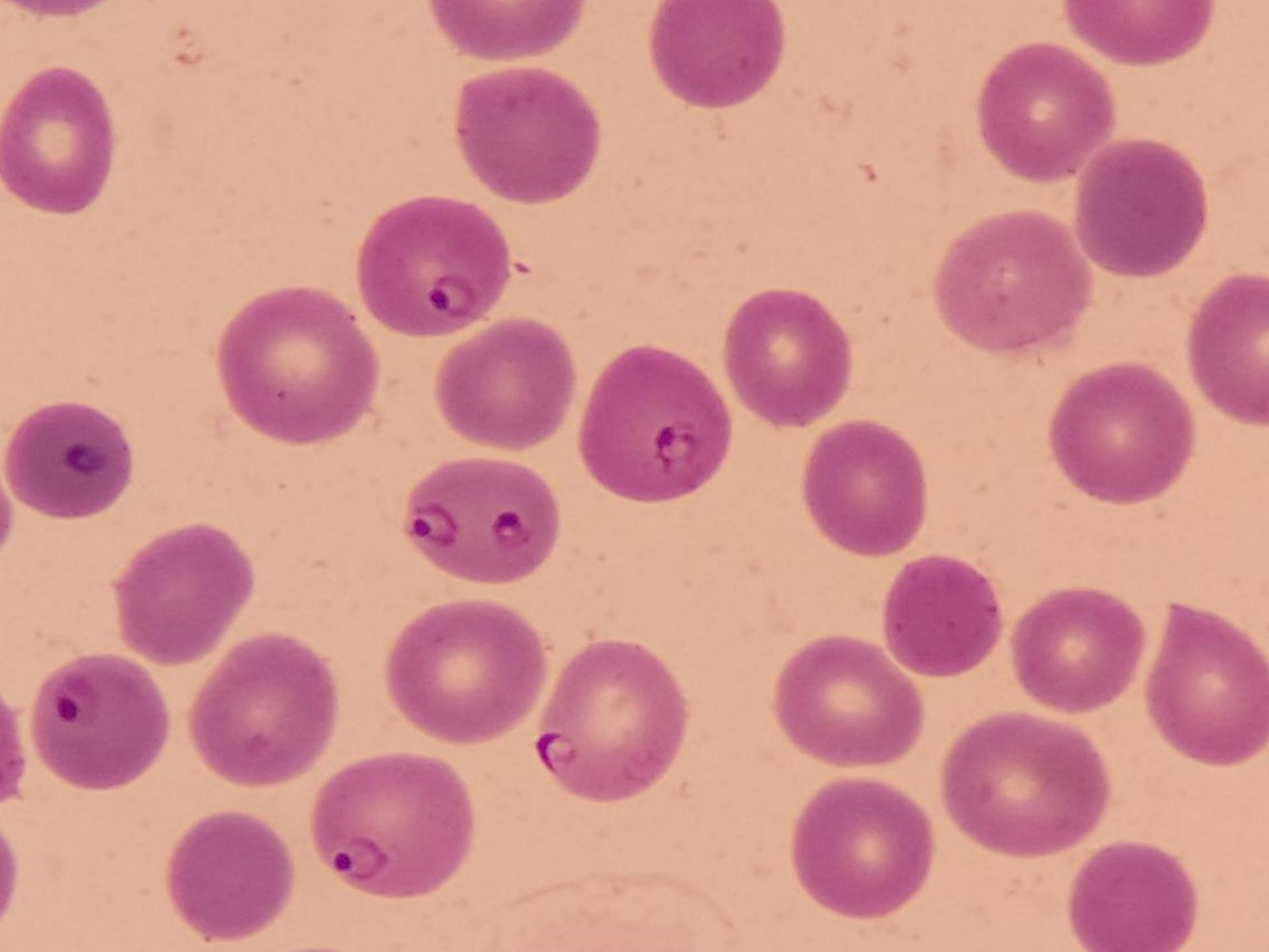Infected: (537, 644, 692, 801), (312, 752, 471, 903), (577, 349, 730, 503), (364, 195, 510, 333), (407, 459, 559, 583), (33, 658, 167, 784), (8, 403, 134, 518)
Uninfected: (223, 284, 379, 444), (943, 715, 1110, 857), (390, 598, 545, 750), (192, 633, 339, 789), (934, 210, 1090, 352), (1143, 600, 1269, 768), (1049, 364, 1194, 504), (770, 638, 921, 770), (116, 527, 255, 668), (793, 777, 934, 915), (456, 66, 597, 201), (981, 47, 1116, 187), (435, 317, 572, 448), (1077, 146, 1207, 278), (725, 291, 849, 429), (0, 65, 113, 216), (1016, 588, 1148, 714), (803, 423, 925, 558), (167, 812, 296, 936), (651, 0, 788, 111), (884, 554, 1005, 674), (1071, 841, 1198, 952), (1193, 274, 1269, 427)
